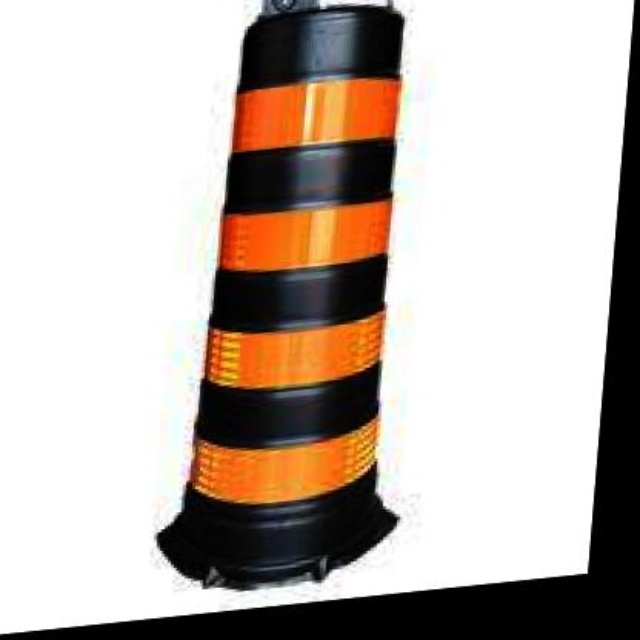obstacle: (175, 0, 429, 561)
